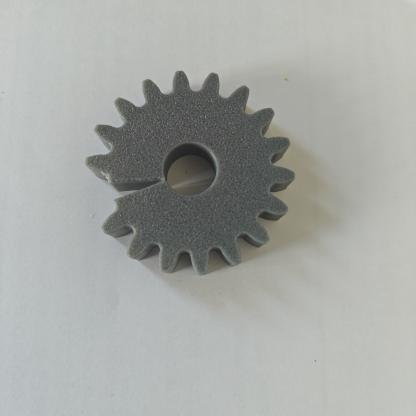defect: (68, 151, 198, 249)
gear: (64, 64, 310, 288)
